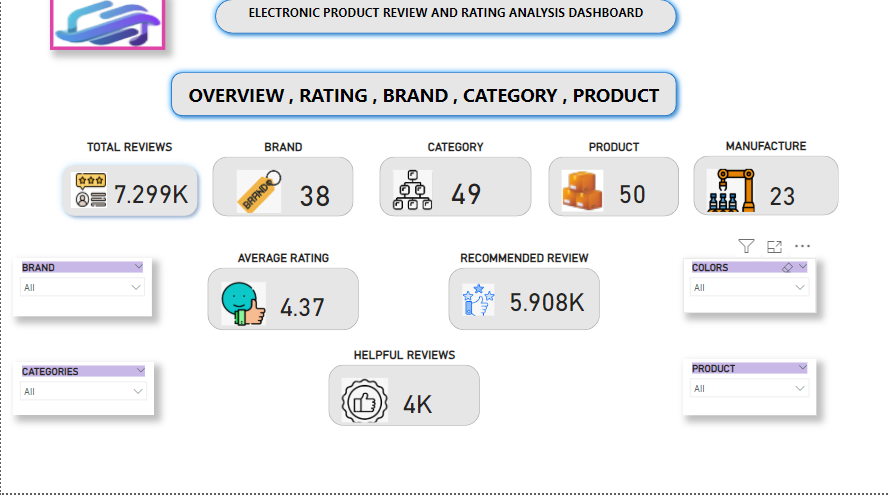

Layout of this report page (visuals, bound fields, positions):
{"tool":"powerbi","page":{"name":"Page 1","canvas":[1280,720],"ordinal":0},"visuals":[{"type":"shape","box":[300,0,682.3,67.1],"z":0},{"type":"image","box":[70.9,0,165.8,82.3],"z":1000},{"type":"shape","box":[236.7,105.1,745.6,81],"z":2000},{"type":"cardVisual","title":"TOTAL  REVIEWS","fields":{"Data":["CountNonNull(Dataset.REVIEW DATE SEEN)"]},"box":[70.9,211.4,229.1,126.6],"z":3000},{"type":"cardVisual","title":"BRAND","fields":{"Data":["Count(Dataset.BRAND)"]},"box":[300,211.4,213.9,115.2],"z":4000},{"type":"cardVisual","title":"CATEGORY","fields":{"Data":["Count(Dataset.CATEGORIES)"]},"box":[540.5,211.4,229.1,115.2],"z":5000},{"type":"cardVisual","title":"PRODUCT","fields":{"Data":["Count(Dataset.NAME)"]},"box":[783.5,211.4,198.7,115.2],"z":6000},{"type":"cardVisual","title":"MANUFACTURE","fields":{"Data":["Count(Dataset.MANUFACTURE)"]},"box":[991.8,211,219.2,115.1],"z":7000},{"type":"cardVisual","title":"AVERAGE RATING","fields":{"Data":["Avg(Dataset.REVIEWS RATING)"]},"box":[291.8,371.2,228.8,119.2],"z":8000},{"type":"cardVisual","title":"RECOMMENDED REVIEW","fields":{"Data":["CountNonNull(Dataset.REVIEW RECOMMENDED)"]},"box":[639.7,371.2,228.8,119.2],"z":9000},{"type":"cardVisual","title":"HELPFUL REVIEWS","fields":{"Data":["Sum(Dataset.HELPFUL REVIEWS)"]},"box":[467.1,511,228.8,117.8],"z":10000},{"type":"slicer","fields":{"Values":["Dataset.BRAND"]},"box":[17.3,381.6,200.2,83.5],"z":11000},{"type":"slicer","fields":{"Values":["Dataset.CATEGORIES"]},"box":[17.3,531.4,203,76.3],"z":12000},{"type":"slicer","fields":{"Values":["Dataset.COLORS"]},"box":[982.1,381.6,191.5,79.2],"z":13000},{"type":"slicer","fields":{"Values":["Dataset.PRODUCT"]},"box":[982.1,527,191.5,80.6],"z":14000}]}

Visuals, with their boxes in screenshot pixels (x1, y1, x2, y2), scaled from the page's 1280x720 canvas onto the 888x495 screenshot:
shape: <box>208,0,681,46</box>
image: <box>49,0,164,57</box>
shape: <box>164,72,681,128</box>
"TOTAL  REVIEWS" cardVisual: <box>49,145,208,232</box>
"BRAND" cardVisual: <box>208,145,357,225</box>
"CATEGORY" cardVisual: <box>375,145,534,225</box>
"PRODUCT" cardVisual: <box>544,145,681,225</box>
"MANUFACTURE" cardVisual: <box>688,145,840,224</box>
"AVERAGE RATING" cardVisual: <box>202,255,361,337</box>
"RECOMMENDED REVIEW" cardVisual: <box>444,255,603,337</box>
"HELPFUL REVIEWS" cardVisual: <box>324,351,483,432</box>
slicer - Dataset.BRAND: <box>12,262,151,320</box>
slicer - Dataset.CATEGORIES: <box>12,365,153,418</box>
slicer - Dataset.COLORS: <box>681,262,814,317</box>
slicer - Dataset.PRODUCT: <box>681,362,814,418</box>
